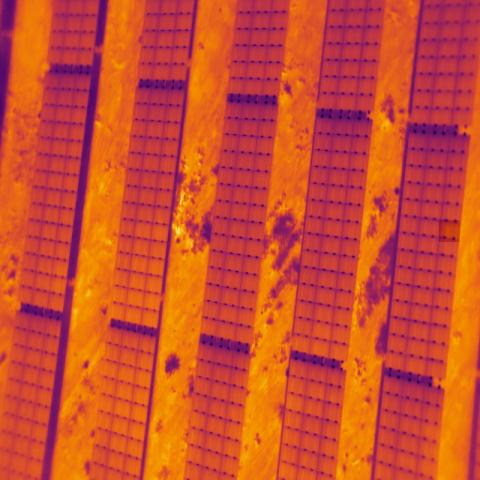fault: (439, 220, 460, 242)
